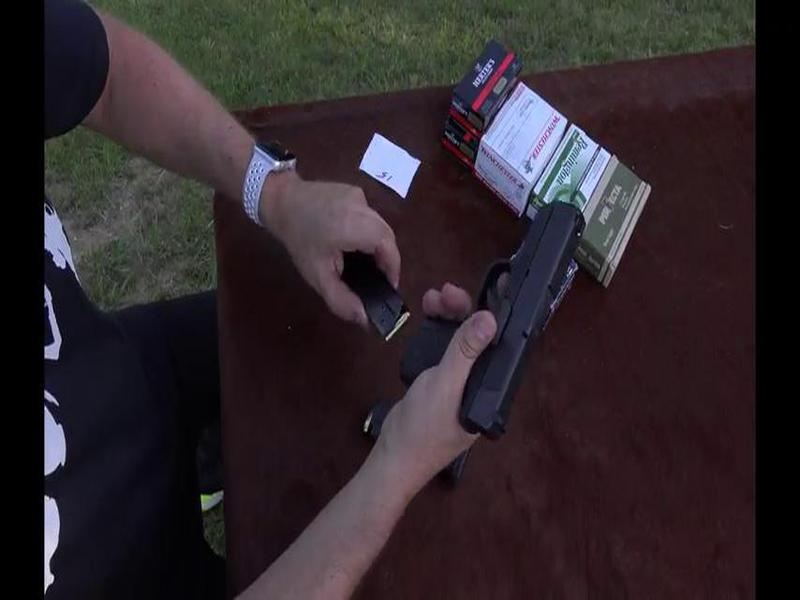Pistola: (376, 187, 609, 434)
